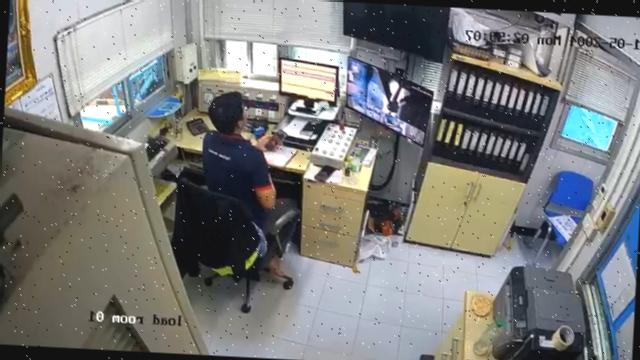Head: (207, 87, 250, 133)
People: (194, 87, 284, 223)
Phone: (262, 128, 288, 151), (311, 163, 337, 182)
